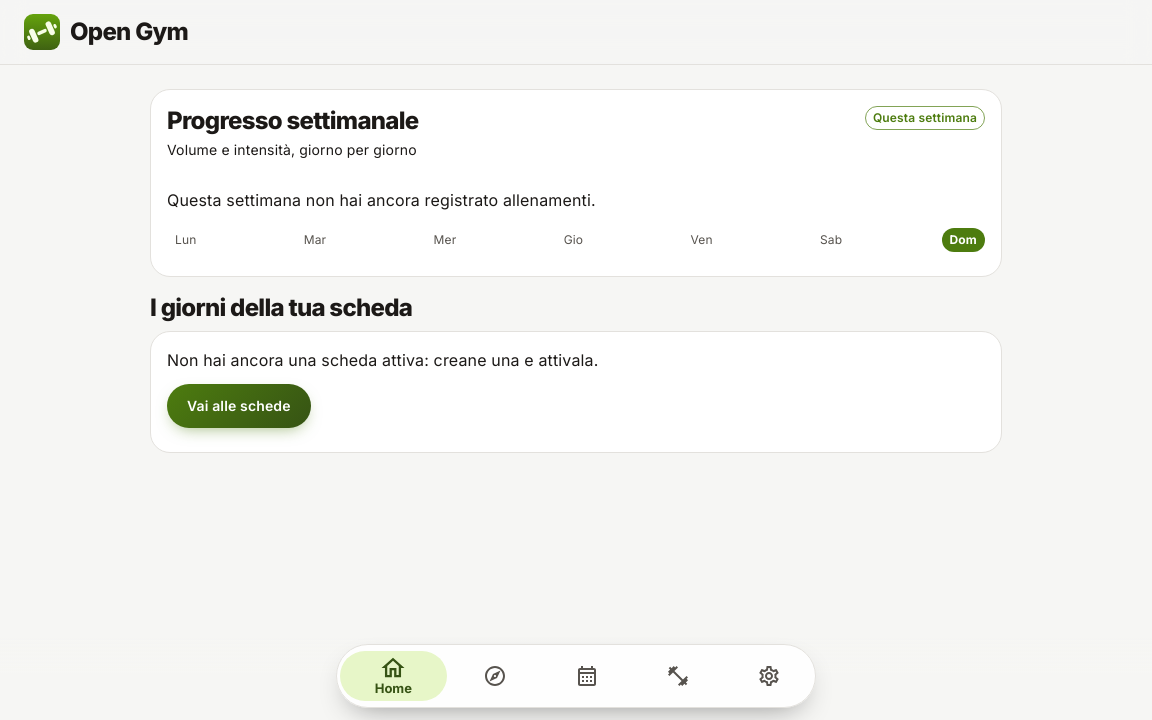
Test: creazione e gestione delle schede (issue #18) › un giorno con un nome fuori lista si scrive nel modale (M15)
Click the button named "Schede" at coordinates (587, 676), box left=544, top=651, right=629, bottom=701
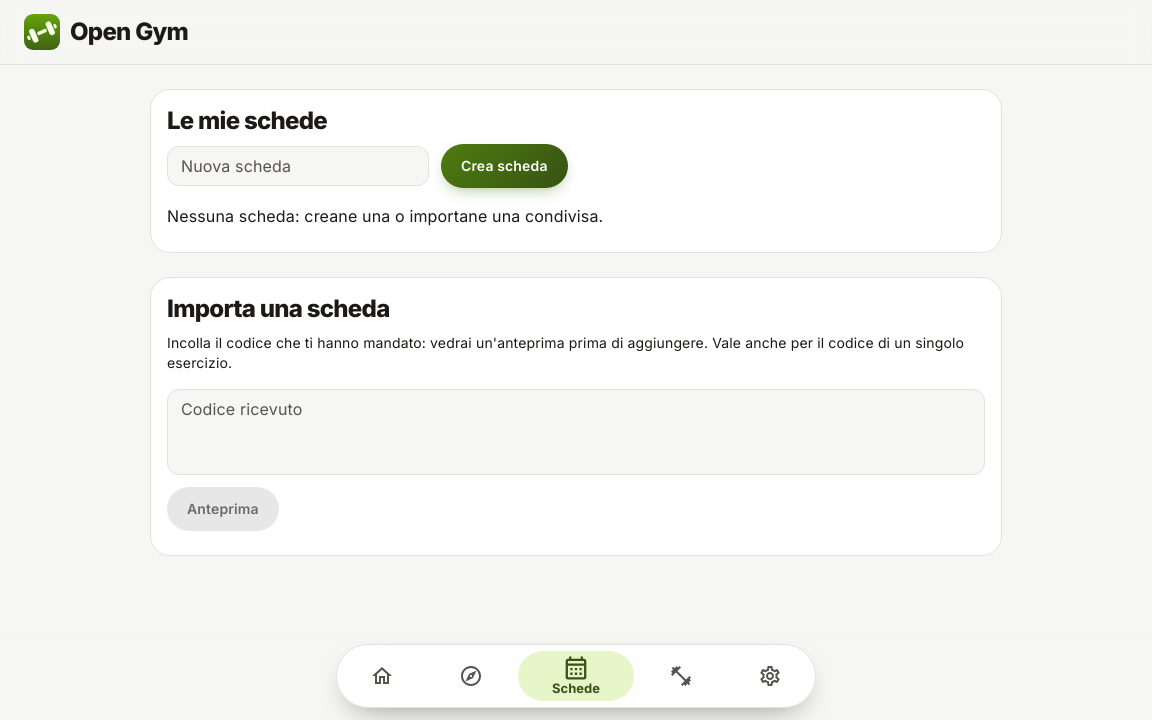
Type "Push Pull Legs" into the field labelled "Nuova scheda" at coordinates (298, 166), box left=167, top=146, right=429, bottom=186
Click the button "Crea scheda" at coordinates (504, 166), box left=441, top=144, right=568, bottom=188
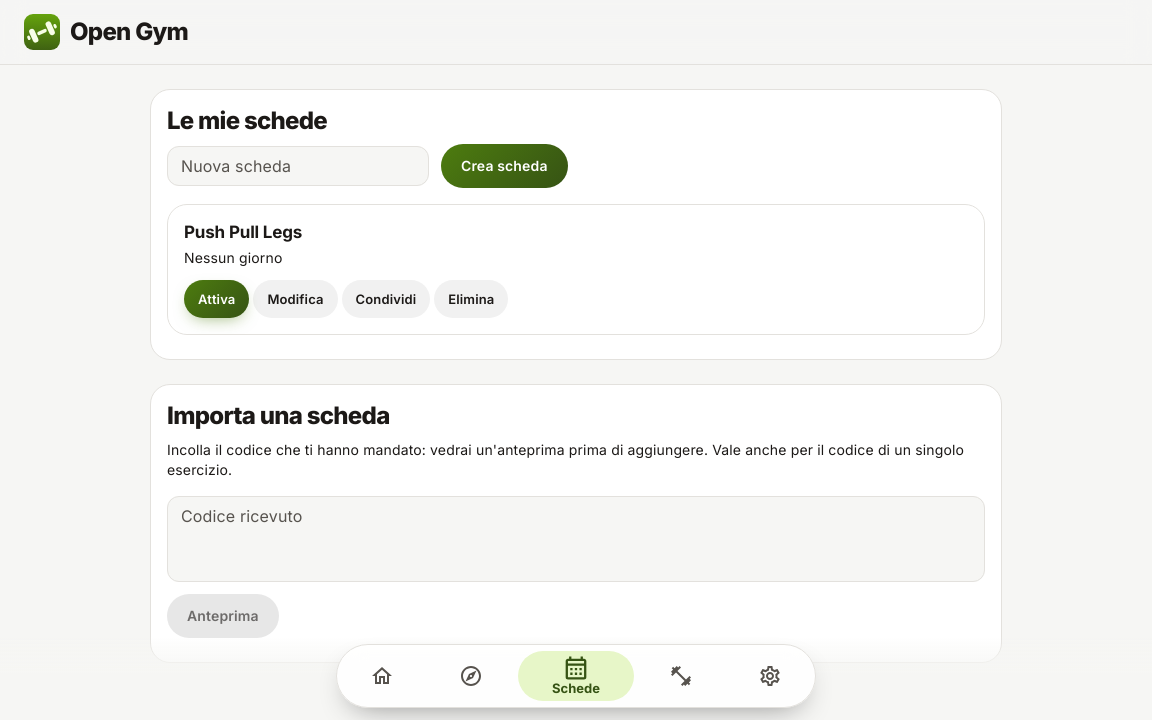
Click the button "Modifica" at coordinates (296, 299), box left=253, top=280, right=338, bottom=318
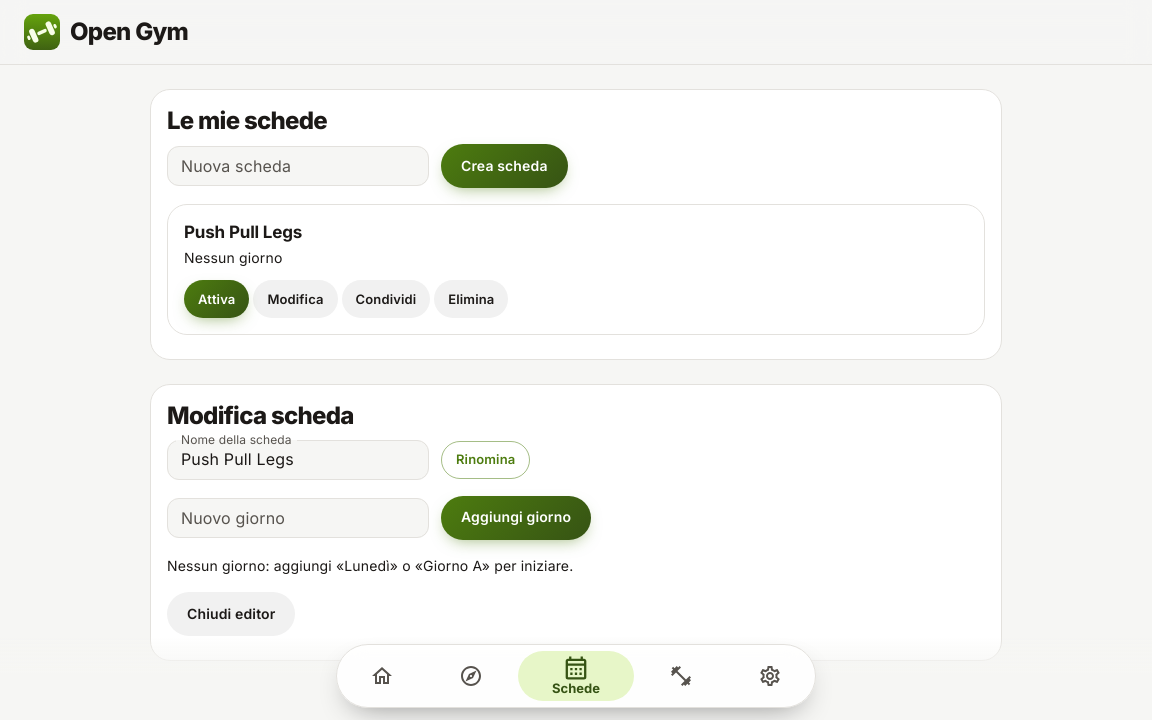
Click the field labelled "Nuovo giorno" at coordinates (298, 518), box left=167, top=498, right=429, bottom=538
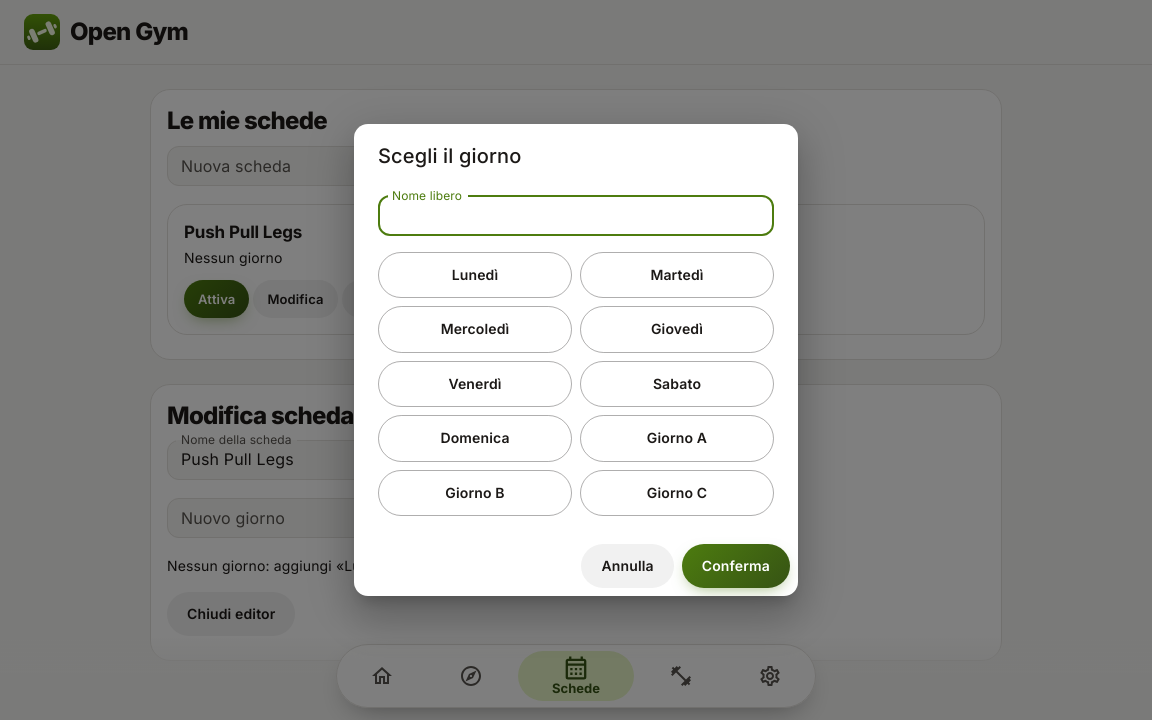
Type "Petto e bicipiti" into the field labelled "Nome libero" at coordinates (576, 216), box left=378, top=196, right=774, bottom=236
Click the button "Conferma" at coordinates (736, 566), box left=682, top=544, right=790, bottom=588
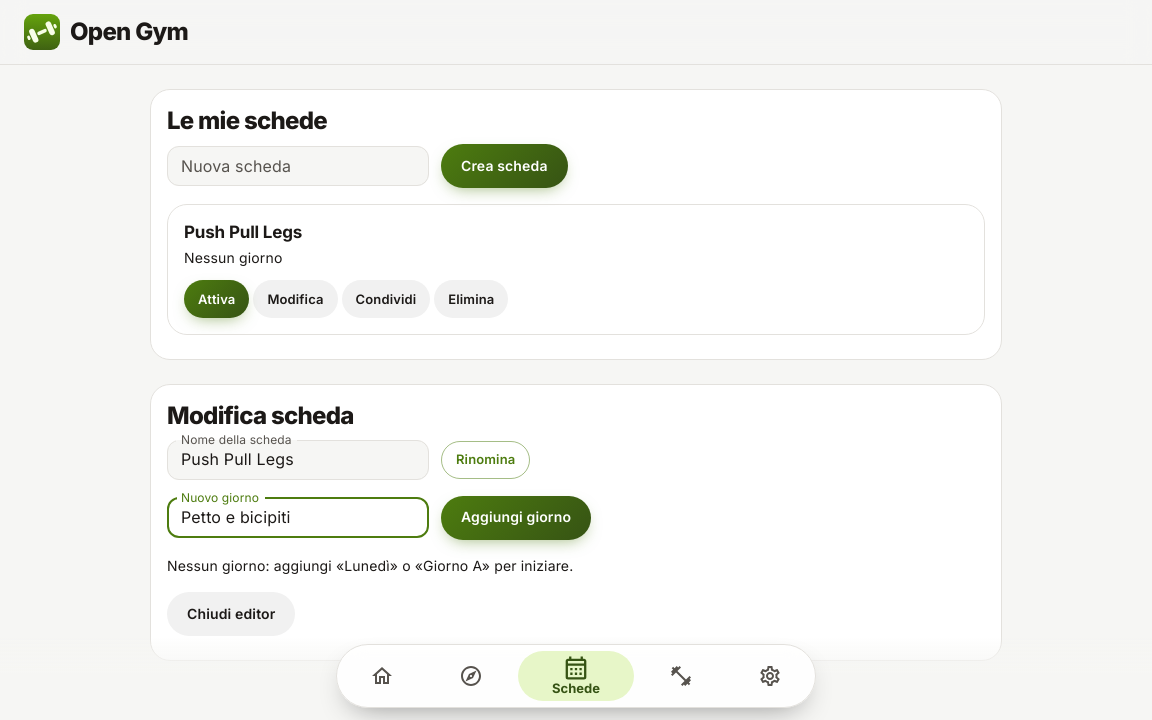
Click the button "Aggiungi giorno" at coordinates (516, 518), box left=441, top=496, right=591, bottom=540
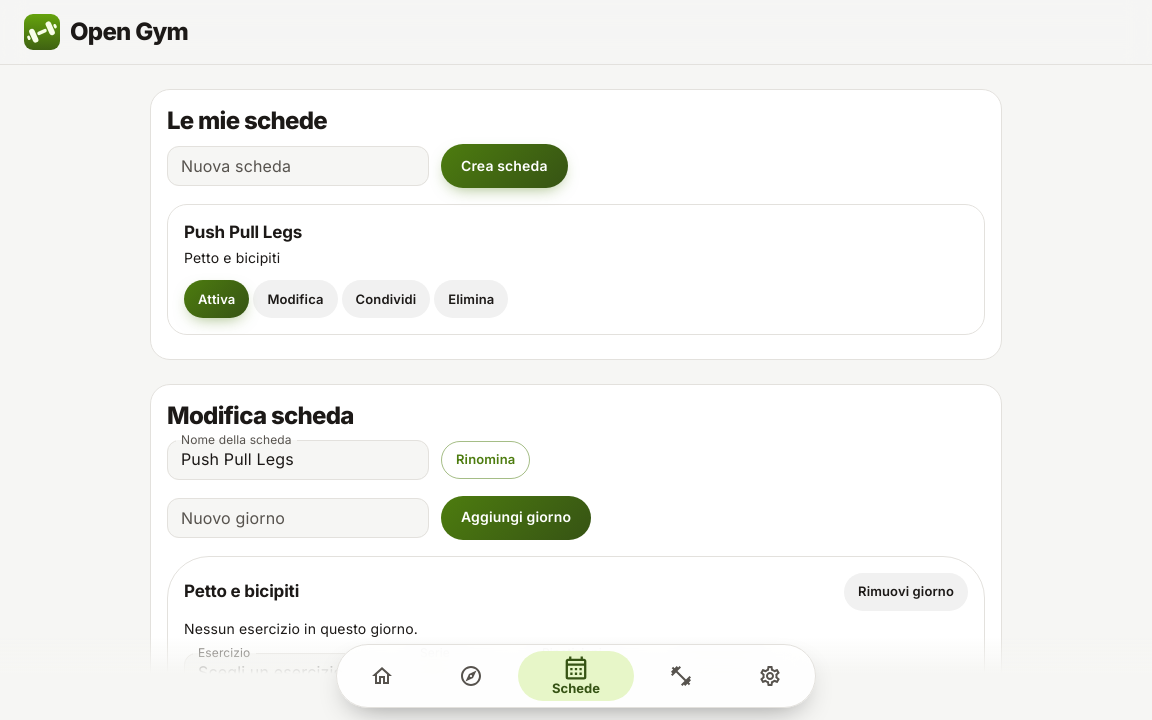
Now the heading "Petto e bicipiti" is shown, box left=184, top=580, right=299, bottom=603
